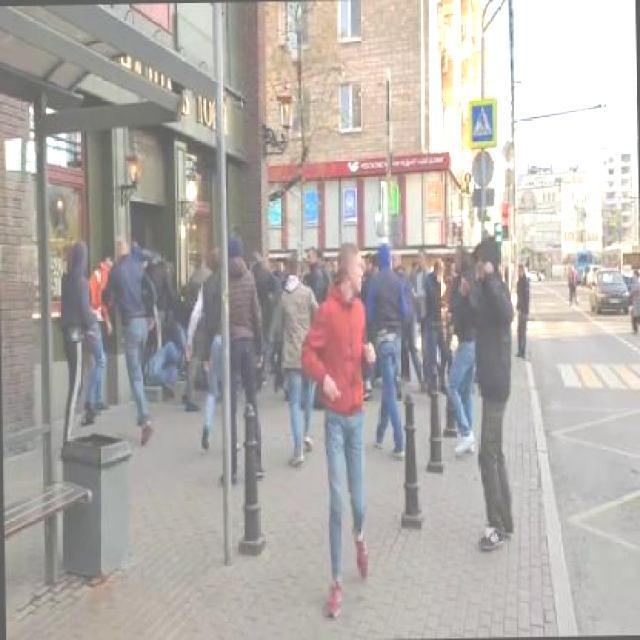non-fight: (295, 238, 373, 616), (458, 234, 516, 558)
